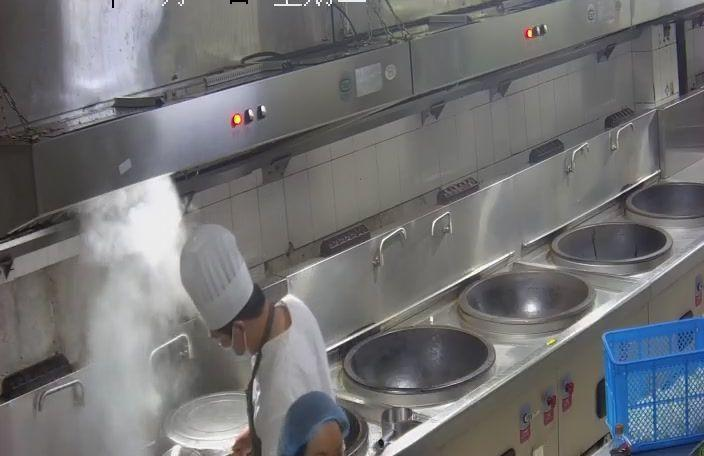mask: (214, 328, 262, 366)
